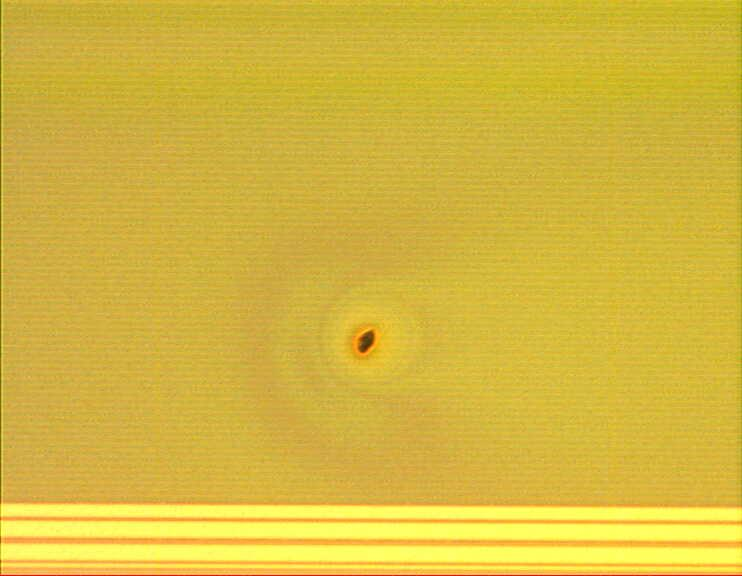PIQ PARTICLE: (339, 316, 391, 368)
